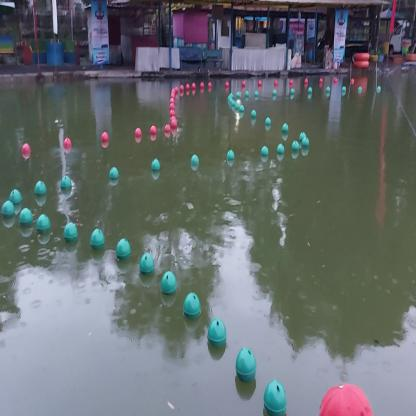green_buoy: (263, 376, 289, 416), (234, 344, 258, 384), (207, 316, 228, 351), (160, 270, 178, 299), (183, 292, 201, 318), (61, 221, 79, 245), (88, 226, 106, 250), (138, 253, 155, 278), (115, 235, 130, 261), (0, 199, 17, 221), (9, 184, 23, 205), (60, 173, 73, 194), (20, 207, 34, 226), (37, 214, 50, 234), (35, 176, 47, 197), (108, 165, 120, 181), (150, 156, 161, 172), (191, 151, 199, 171), (226, 147, 234, 164), (302, 138, 312, 150), (291, 139, 299, 153), (276, 142, 285, 154), (260, 145, 269, 156), (298, 130, 306, 142), (281, 122, 289, 133), (265, 116, 271, 126)
red_buoy: (100, 129, 110, 144), (62, 136, 73, 148), (21, 142, 30, 155), (133, 127, 143, 138), (149, 124, 157, 136), (168, 113, 177, 123), (164, 122, 170, 134), (171, 120, 178, 129)
